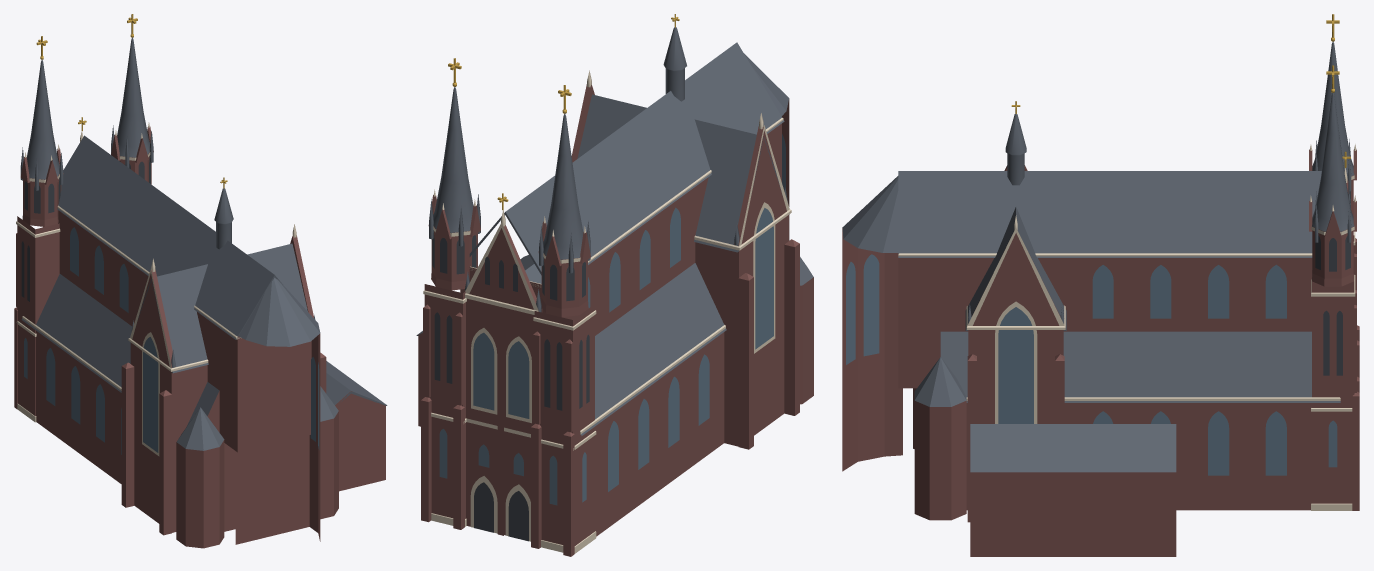
The model's file is amsterdam-krijtberg.glb.
3 views of the same model, side by side, from view 1: azimuth 30°, elevation 25°; view 2: azimuth 150°, elevation 25°; view 3: azimuth 270°, elevation 25° (orthographic). The views are drawn at different scales.
Visible parts, largest first — view 1: De Krijtberg; view 2: De Krijtberg; view 3: De Krijtberg.
Boxes of the visible parts, x1=… form: De Krijtberg: x1=14, y1=14, x2=387, y2=548; De Krijtberg: x1=416, y1=14, x2=813, y2=556; De Krijtberg: x1=842, y1=14, x2=1359, y2=556.
Bounding box in the file's own units: 31.45 × 50 × 53.75.
